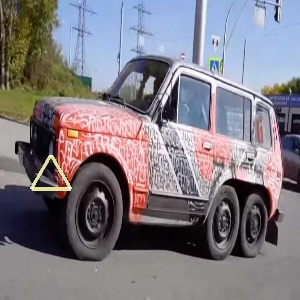triangle: (29, 152, 75, 199)
